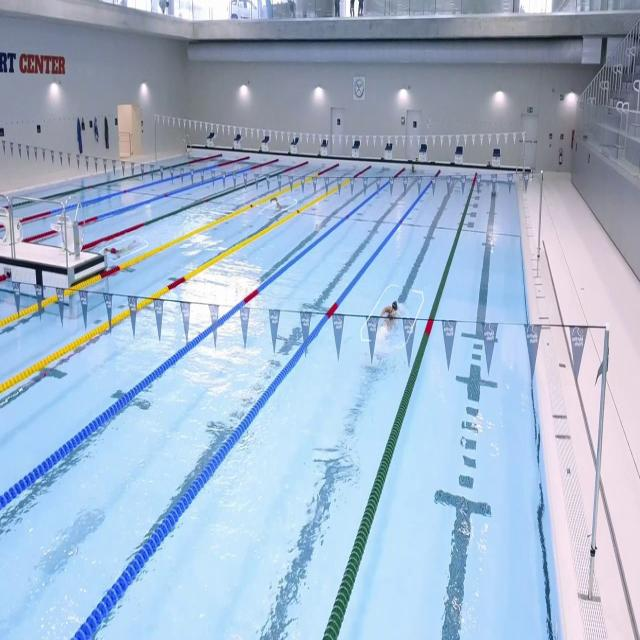Swimming: (378, 299, 404, 339), (103, 237, 138, 259), (270, 196, 290, 214)
